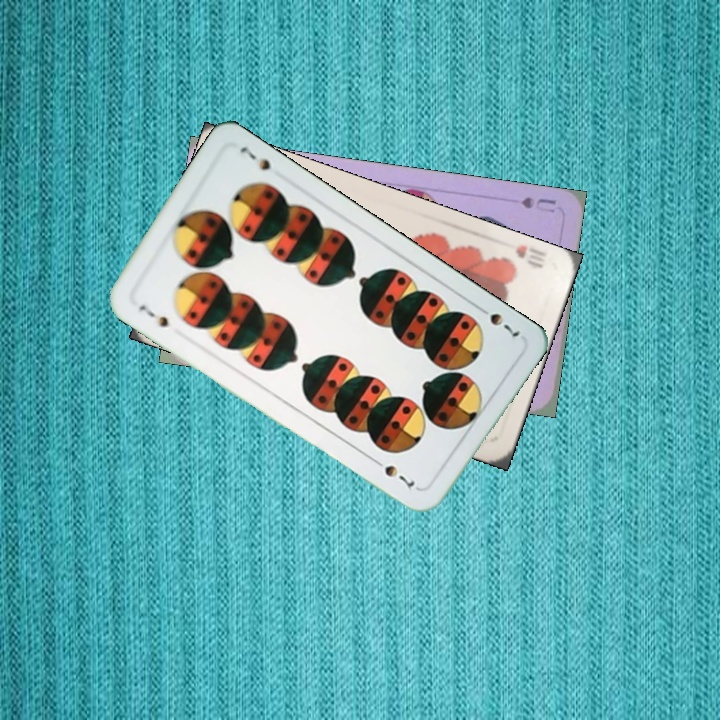H10: (511, 241, 546, 272)
S7: (472, 302, 523, 340), (134, 301, 171, 330)
SU: (517, 193, 559, 216)
